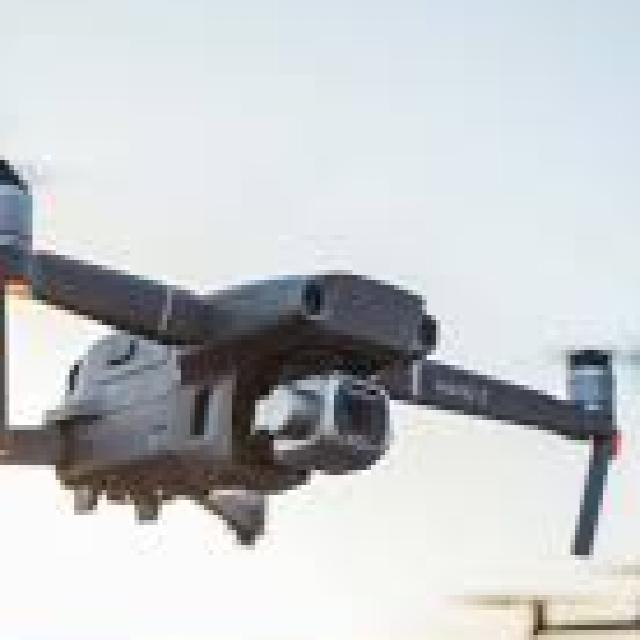drone: (0, 95, 640, 585), (454, 525, 640, 640)
